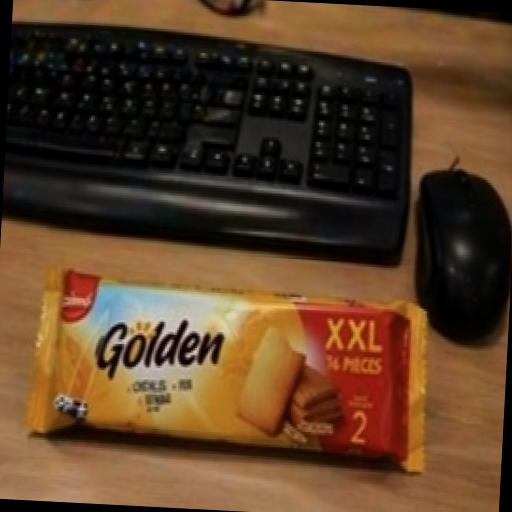golden: (23, 207, 503, 512)
